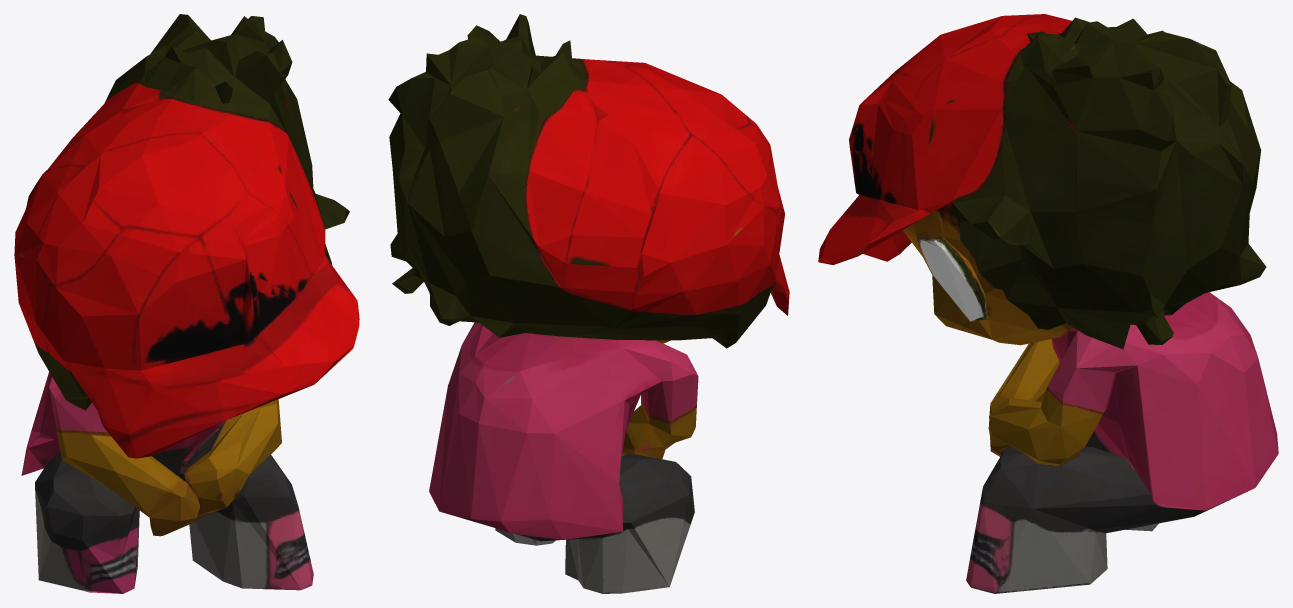
File: kapri.glb
The picture shows the model from 3 angles, left to right: view 1: azimuth 30°, elevation 25°; view 2: azimuth 150°, elevation 25°; view 3: azimuth 270°, elevation 25°; orthographic projection. The views are drawn at different scales.
Visible parts, largest first — view 1: geometry_0; view 2: geometry_0; view 3: geometry_0.
Part boxes in pixels (x1,y1,x2,y2): geometry_0: [14, 14, 359, 593]; geometry_0: [388, 14, 789, 593]; geometry_0: [818, 14, 1278, 593].
Bounding box in the file's own units: 0.6672 × 0.9979 × 0.7597.
Materials: 1 (1 with a texture image).
